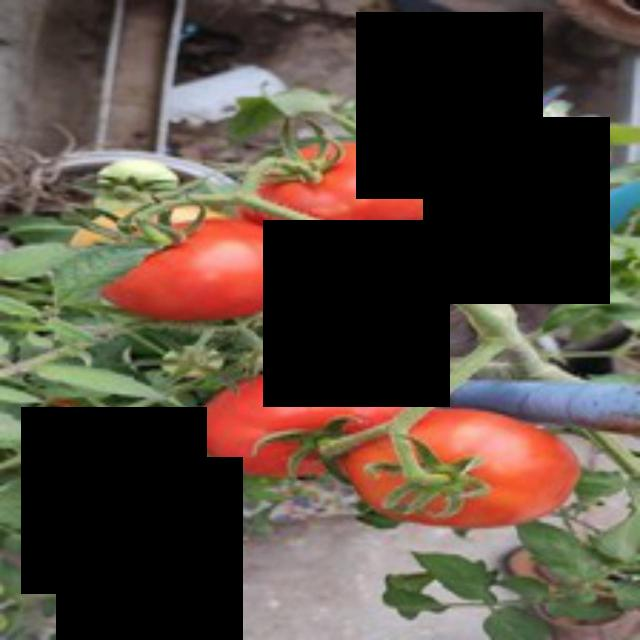tomato: (341, 402, 580, 524), (184, 363, 429, 480), (101, 211, 313, 336), (259, 138, 464, 247)
